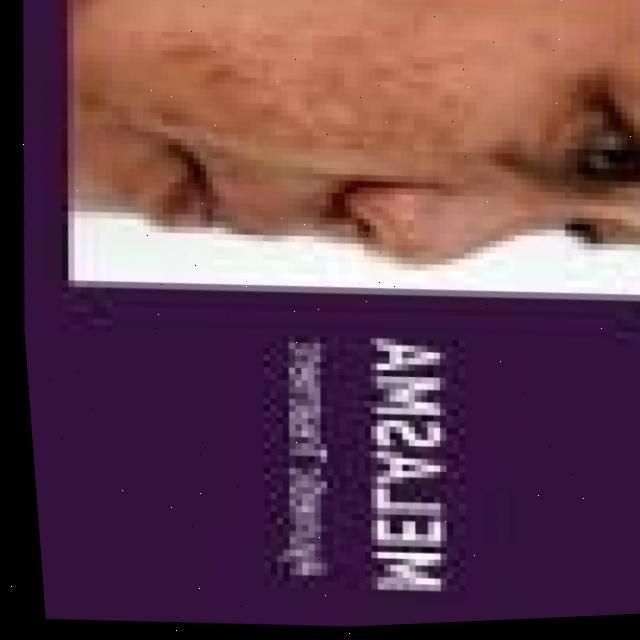Melasma: (121, 0, 516, 176)
